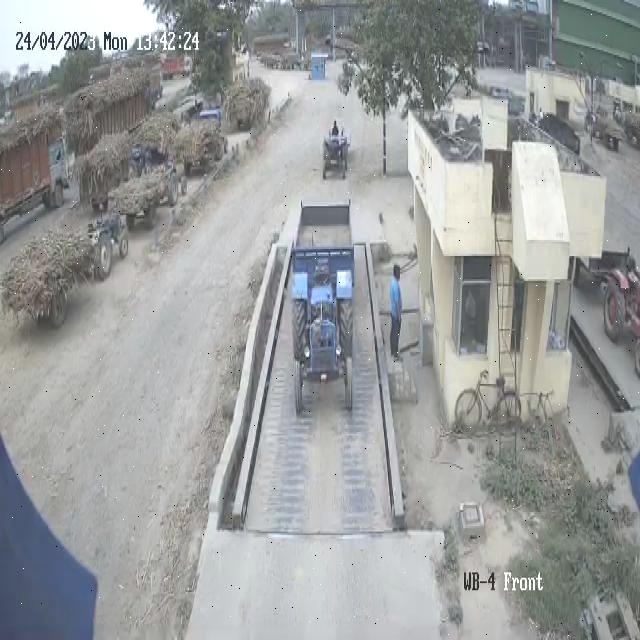Tratores - v5 YOLO V8L 2024-11-13: (290, 270, 360, 413), (322, 110, 355, 193), (87, 215, 134, 273)
